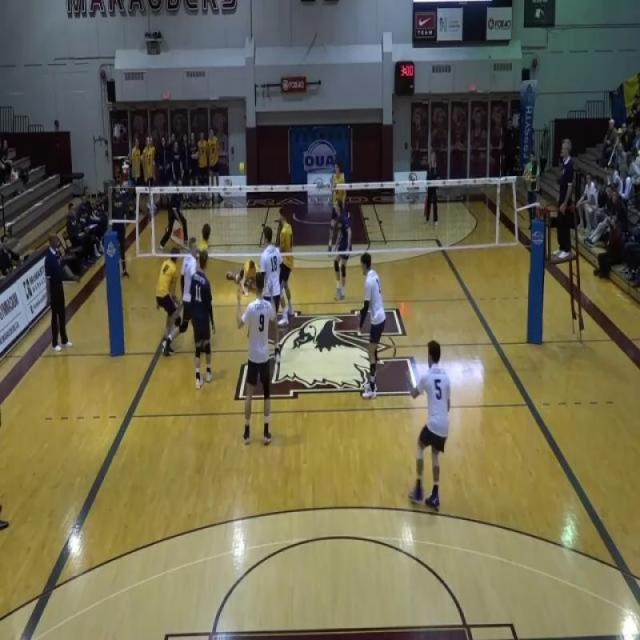volleyball: (238, 160, 245, 176), (525, 172, 532, 179)
